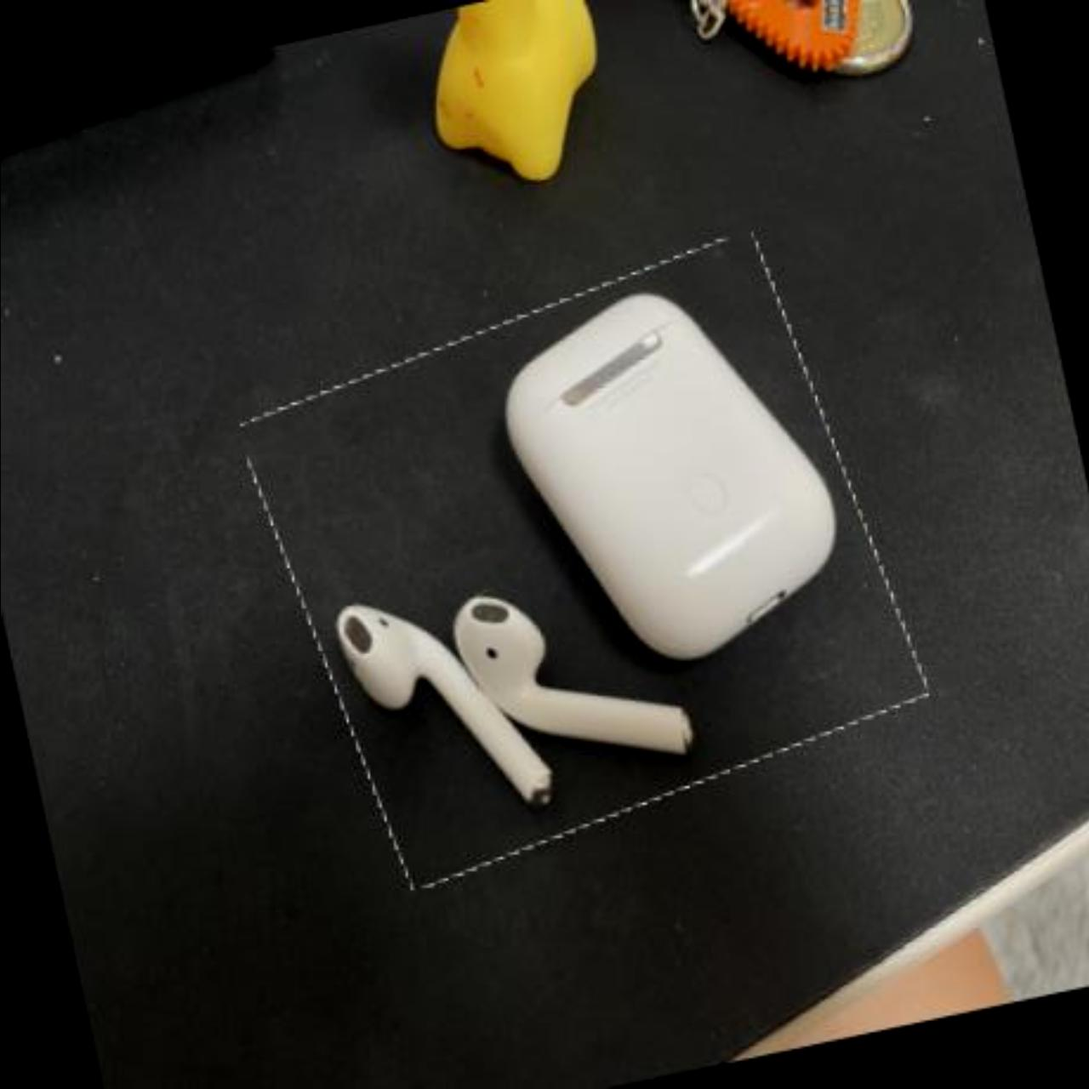AirPods: (241, 236, 925, 882)
